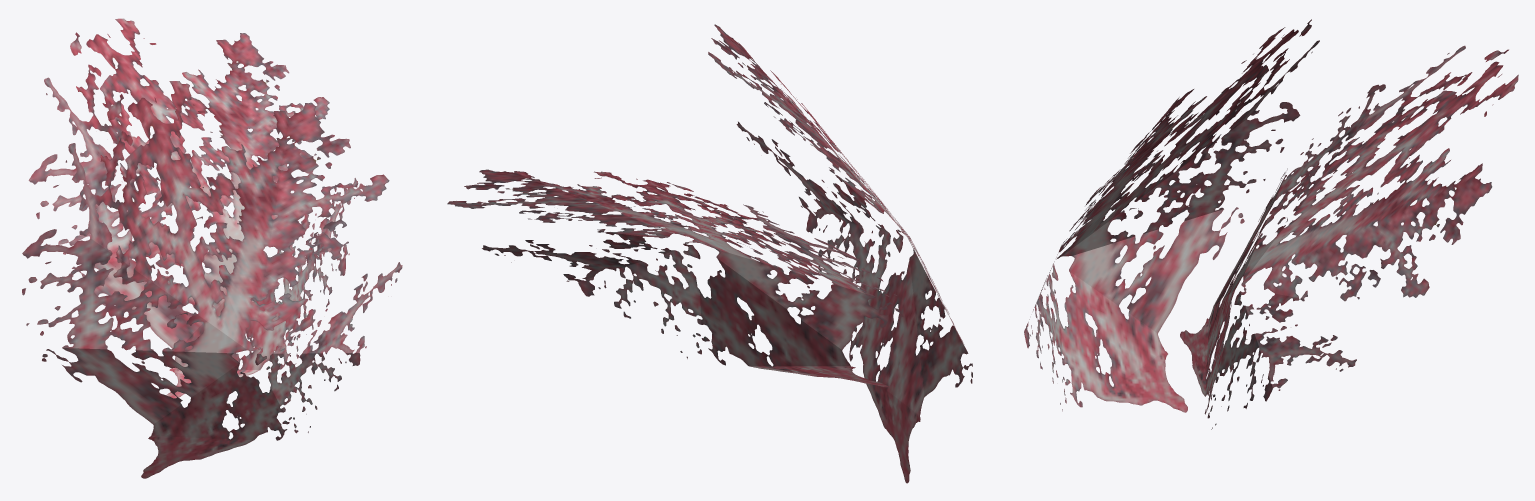
The model's file is cao_R_shanhu.fbx.
The picture shows the model from 3 angles, left to right: view 1: azimuth 30°, elevation 25°; view 2: azimuth 150°, elevation 25°; view 3: azimuth 270°, elevation 25°; orthographic projection. The views are drawn at different scales.
Parts seen in each view (by area): view 1: cao_R_shanhu; view 2: cao_R_shanhu; view 3: cao_R_shanhu.
Part boxes in pixels (left/top/right/bottom): cao_R_shanhu: left=22, top=18, right=402, bottom=478; cao_R_shanhu: left=447, top=24, right=972, bottom=483; cao_R_shanhu: left=1024, top=19, right=1518, bottom=429.
Bounding box in the file's own units: 389 × 344 × 364.
